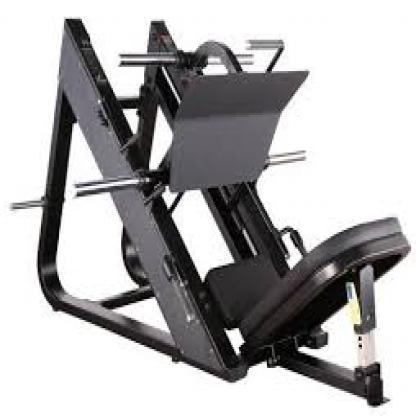leg press: (10, 9, 413, 410)
